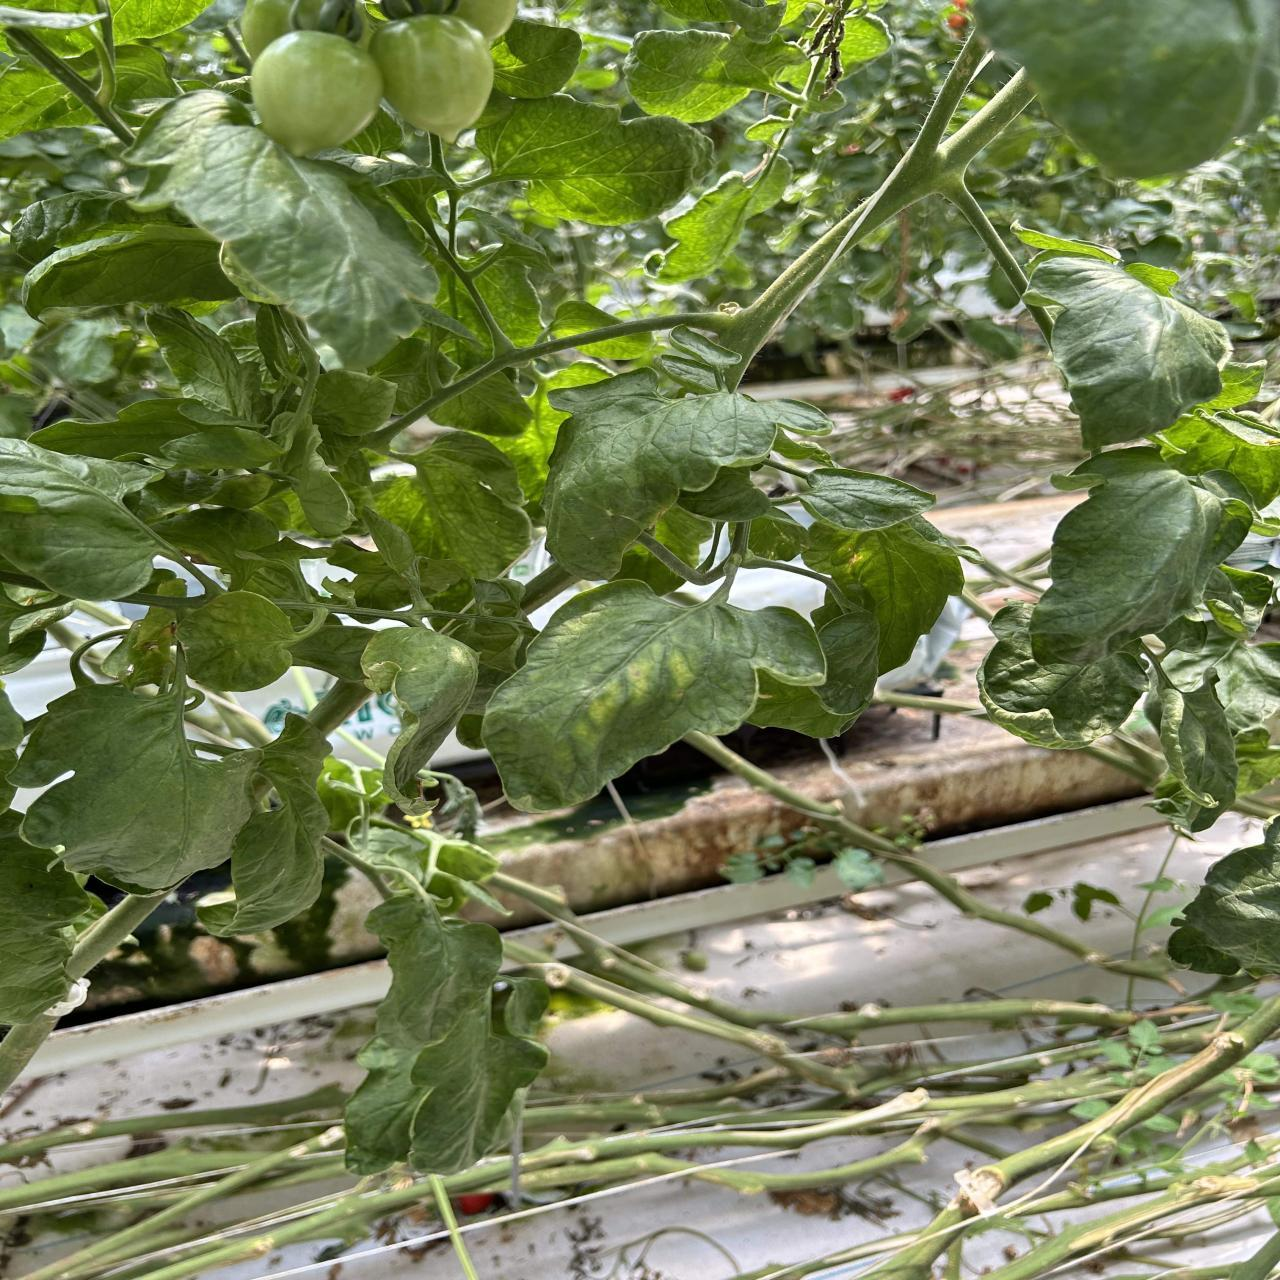Hoja: (975, 0, 1280, 179), (1026, 257, 1230, 449), (0, 439, 170, 599), (802, 521, 964, 672), (222, 718, 329, 934), (0, 812, 103, 1024), (22, 224, 239, 317), (372, 894, 501, 1050), (647, 150, 791, 283), (624, 30, 803, 123), (146, 306, 267, 421), (345, 1033, 439, 1175), (11, 190, 178, 264), (32, 399, 202, 459), (274, 422, 353, 537), (492, 19, 582, 98), (817, 610, 879, 716), (430, 373, 532, 436), (364, 507, 424, 610), (313, 369, 396, 436), (157, 426, 280, 470), (291, 623, 376, 681), (748, 512, 808, 561)
Hoja rugoso: (129, 91, 439, 368), (483, 582, 825, 811), (543, 375, 827, 579), (14, 677, 265, 892), (1031, 446, 1223, 665), (465, 97, 710, 225), (977, 603, 1149, 749), (409, 990, 546, 1173), (377, 431, 530, 578), (361, 628, 478, 815), (1168, 817, 1280, 976), (1145, 659, 1239, 830), (178, 592, 296, 691), (800, 469, 935, 530)
Pedunculo: (376, 29, 1034, 438), (67, 891, 167, 980), (304, 678, 372, 739)
Tomate Rugoso: (252, 31, 381, 153), (370, 17, 494, 141)
